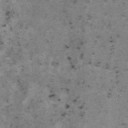oxide scale of temperature system: (46, 14, 115, 126), (4, 47, 42, 114), (5, 10, 23, 29), (107, 92, 112, 98), (120, 122, 126, 126)
